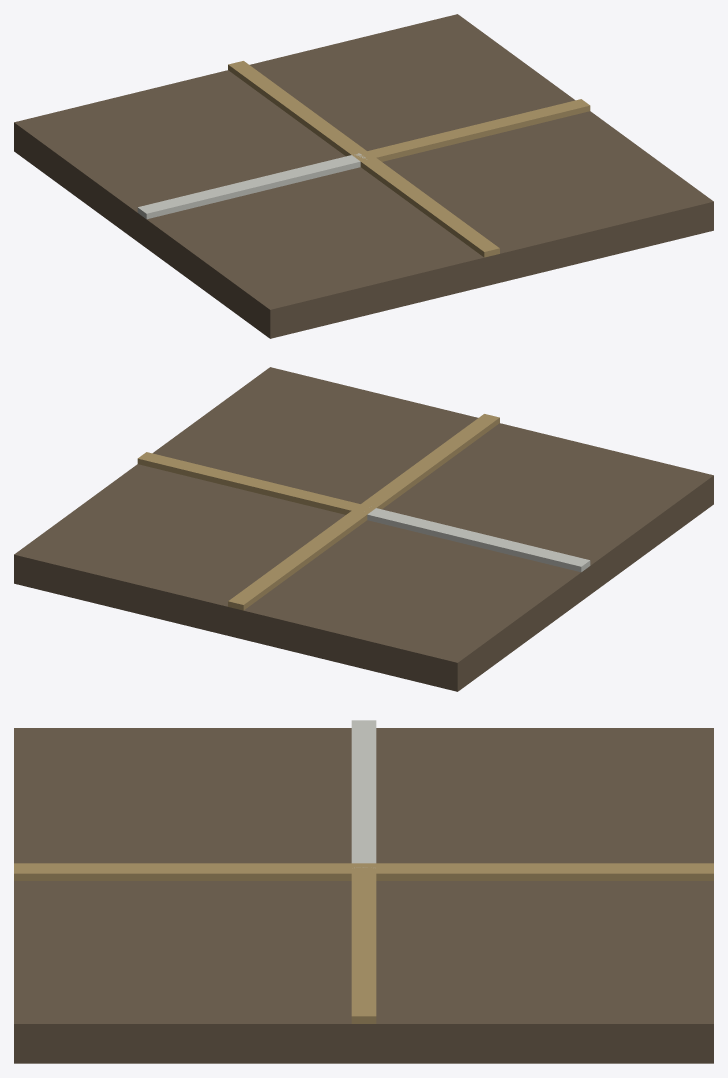
The model's file is terrain-path-cross.lod0.glb.
3 renders of one model, top to bottom at view 1: azimuth 30°, elevation 25°; view 2: azimuth 150°, elevation 25°; view 3: azimuth 270°, elevation 25°, orthographic. The views are drawn at different scales.
Parts seen in each view (by area): view 1: terrain-path-cross__body; view 2: terrain-path-cross__body; view 3: terrain-path-cross__body.
Part boxes in pixels (bbox=[...]): terrain-path-cross__body: bbox=[14, 14, 713, 338]; terrain-path-cross__body: bbox=[14, 367, 713, 691]; terrain-path-cross__body: bbox=[14, 720, 713, 1063].
Size of the model in its own units: 2 by 0.149 by 2.
